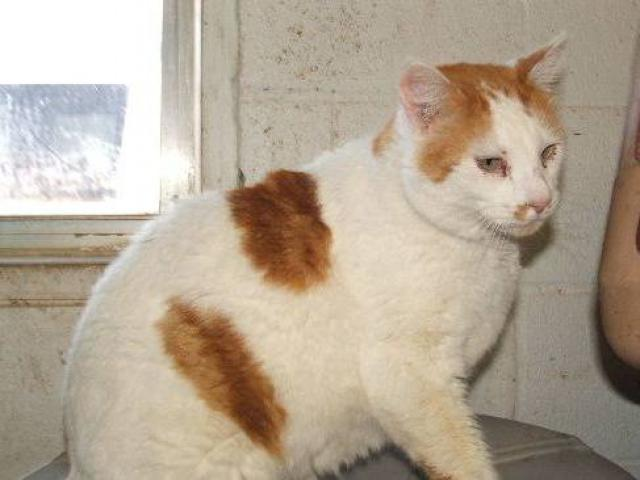cat: (52, 24, 579, 477)
